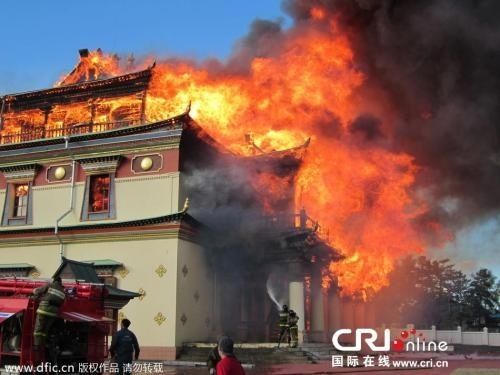fire: (206, 14, 452, 315), (52, 48, 124, 86)
